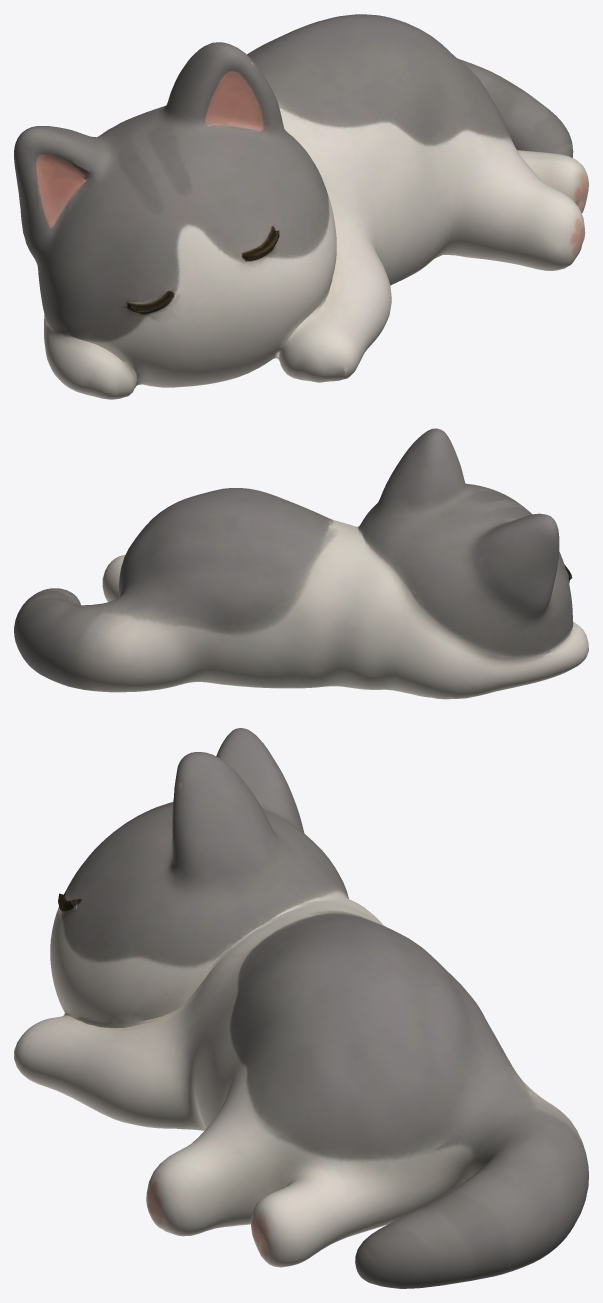
The model's file is Meshy_AI_model.glb.
3 renders of one model, top to bottom at view 1: azimuth 30°, elevation 25°; view 2: azimuth 150°, elevation 25°; view 3: azimuth 270°, elevation 25°, orthographic. The views are drawn at different scales.
Parts seen in each view (by area): view 1: Mesh0; view 2: Mesh0; view 3: Mesh0.
Part boxes in pixels (left/top/right/bottom): Mesh0: left=14, top=14, right=588, bottom=399; Mesh0: left=14, top=428, right=588, bottom=699; Mesh0: left=14, top=728, right=588, bottom=1288.
Bounding box in the file's own units: 1.9 × 0.8583 × 1.43.
Materials: 1 (1 with a texture image).
